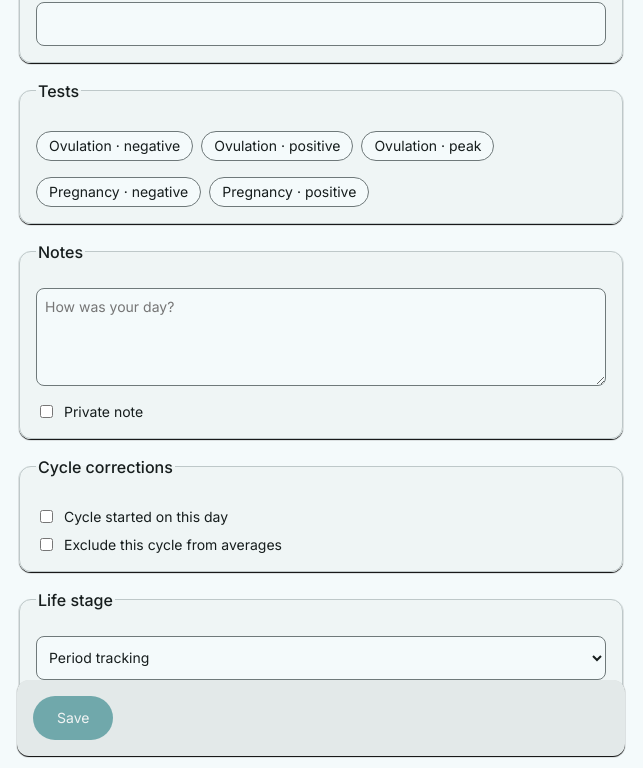
Test: DayPage (issue #1254) › keeps a failed save on screen with the retry banner
(page scrolled)
Step 1. Type "still here" into the text box named "Notes" → [321, 336], box [36,288,606,386]
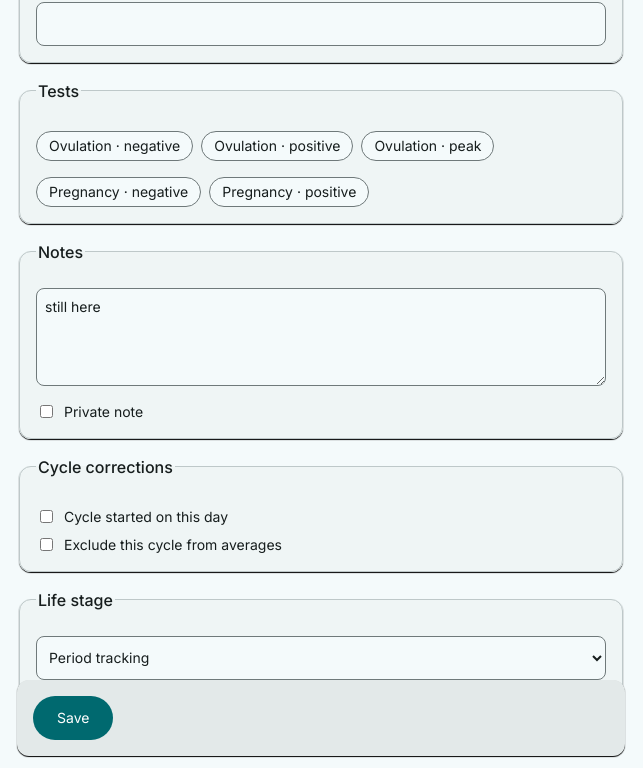
Step 2. Click the button "Save" → [73, 718], box [33,696,113,740]
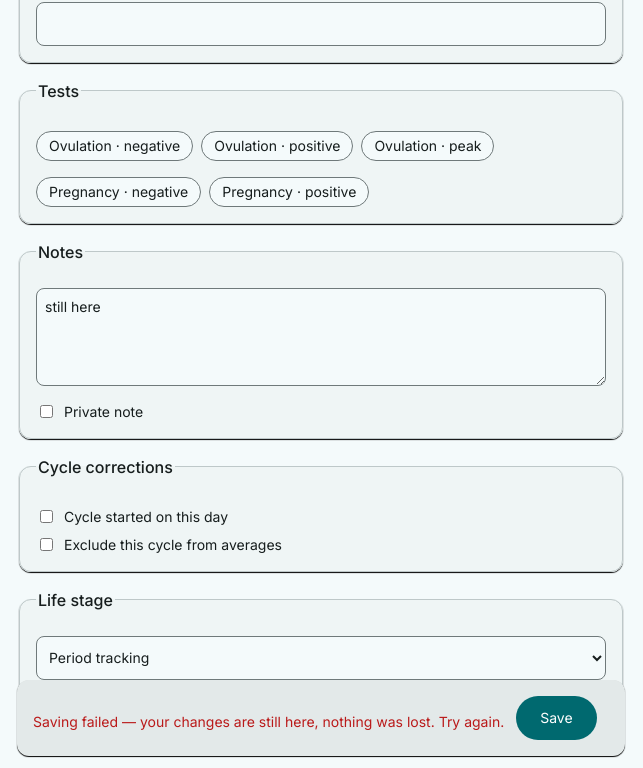
Check: the button "Save" is enabled, box [516,696,597,740]
Check: the text "Saving failed — your changes are still here, nothing was lost. Try again." is shown, box [33,712,504,732]
